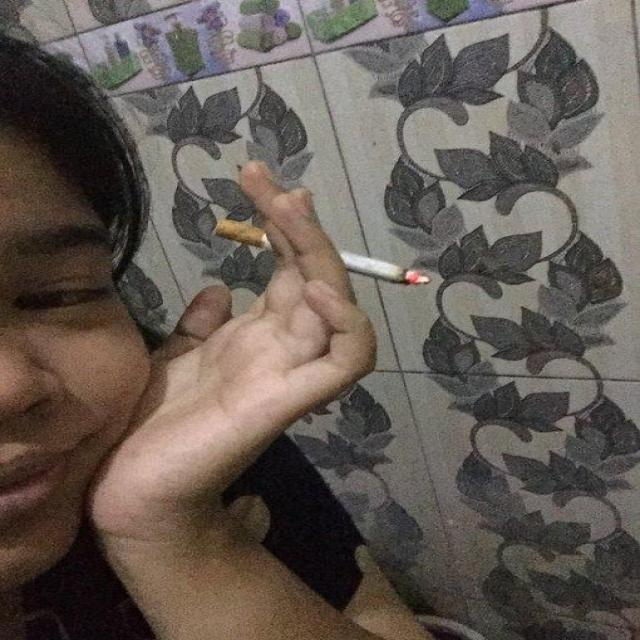rokok: (212, 213, 436, 293)
